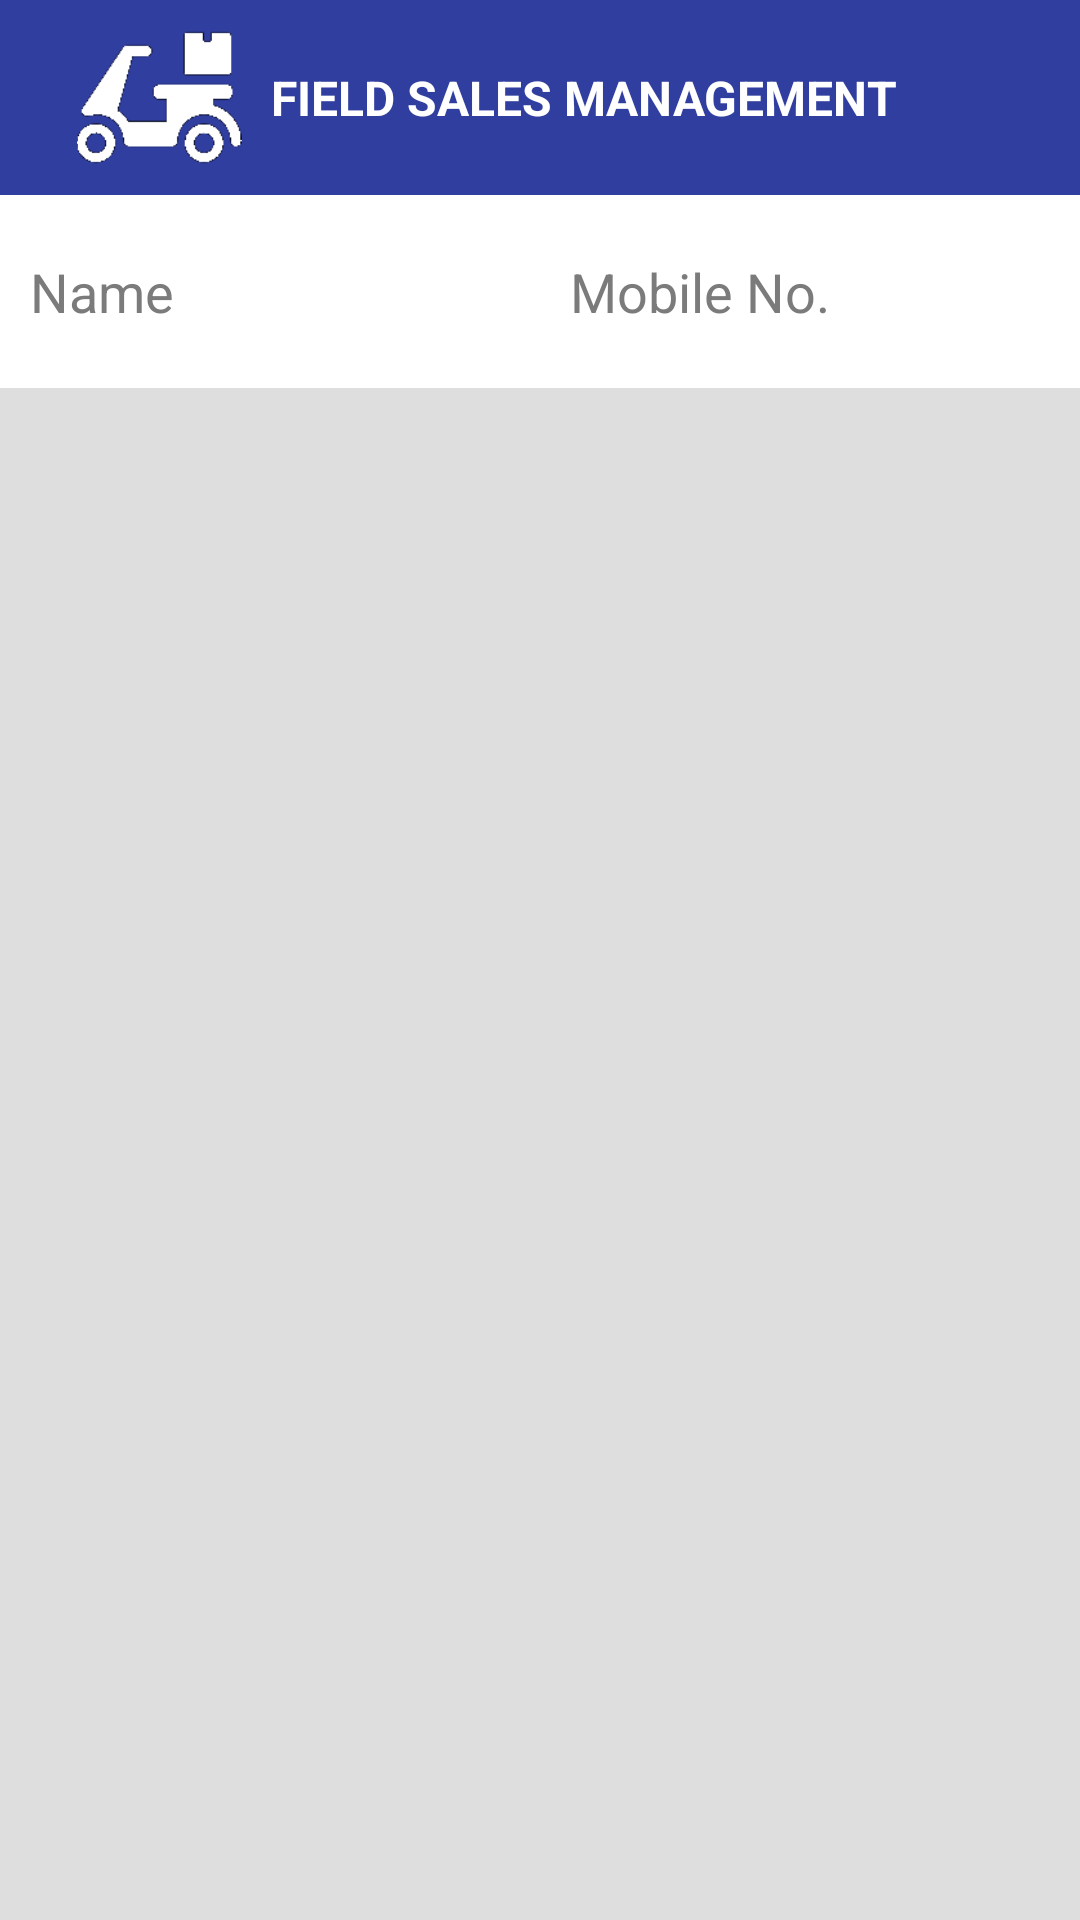

Where to tap for icons on this 1080×1920 app screen, as (x,y):
biker: (159,97)
